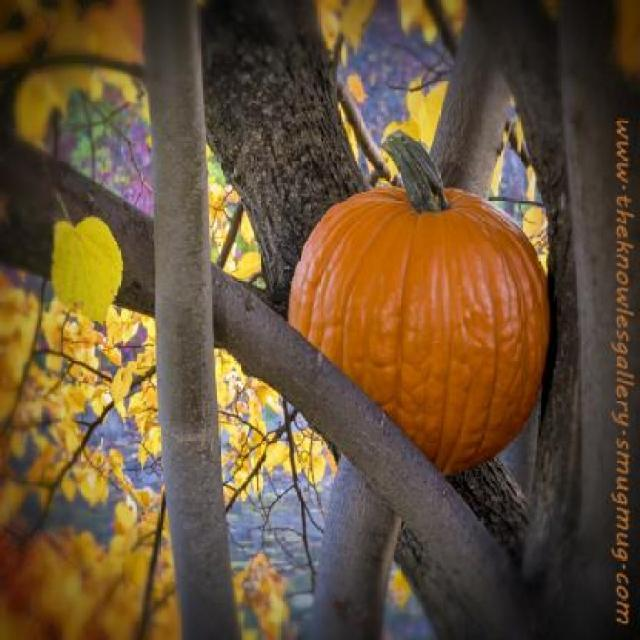Pumpkin: (289, 130, 562, 476)
